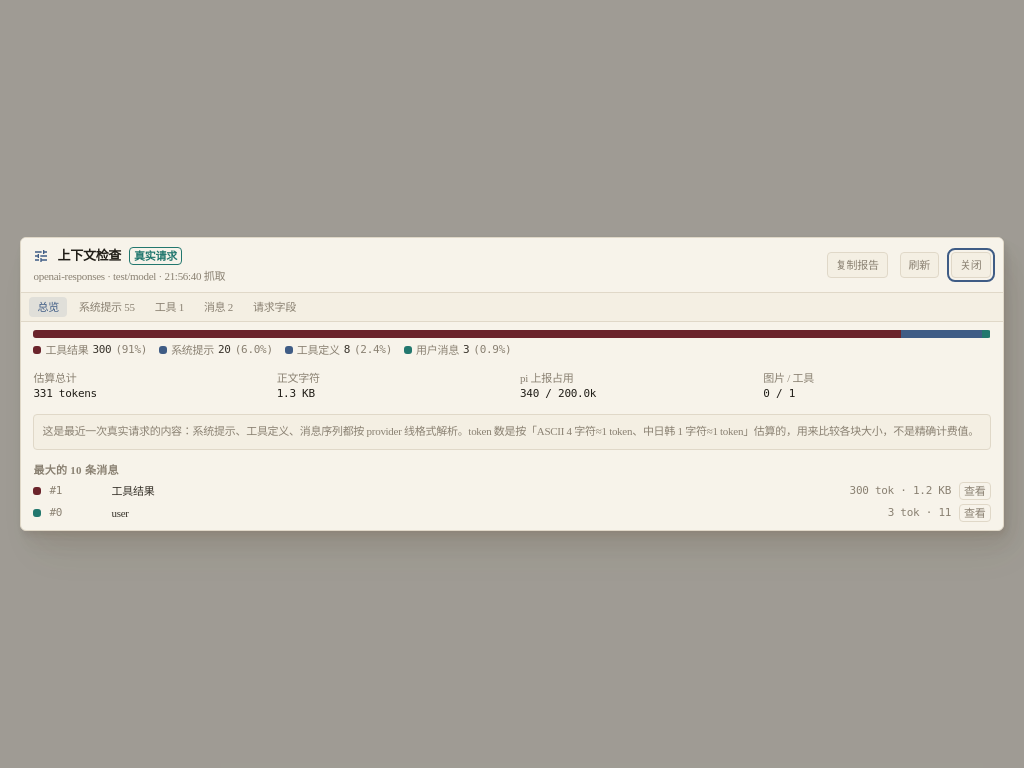
Test: ContextInspector › 搜索只在消息里过滤，命中之外的消息不出现
The image size is (1024, 768).
Click the button "消息 2": (218, 307) [196,297,241,317]
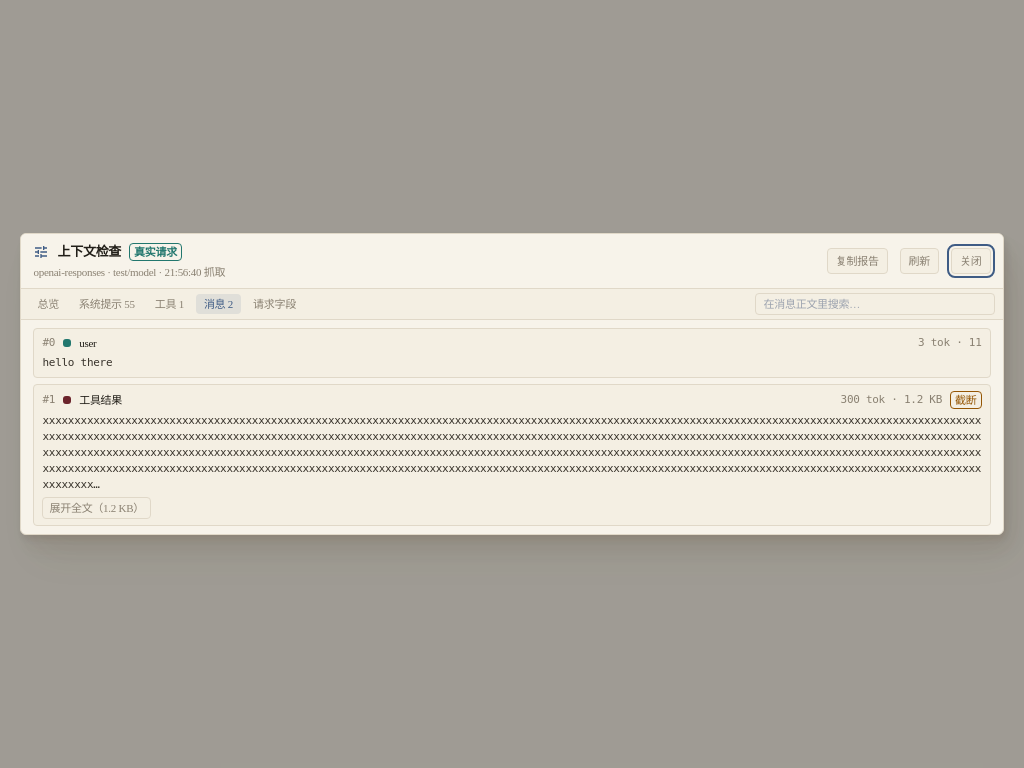
In the field with placeholder "在消息正文里搜索…": (874, 304) [754,293,994,315], type "hello"
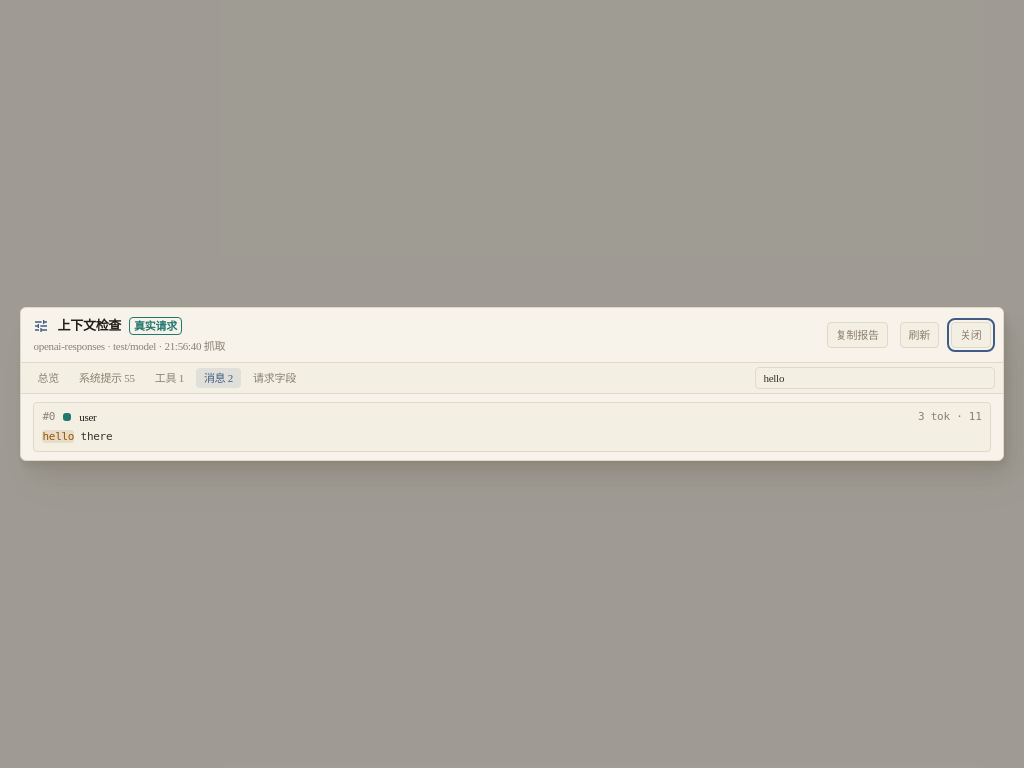
Now the text "#0" is shown, box [42,409,55,425]
Now the text "#1" is gone
